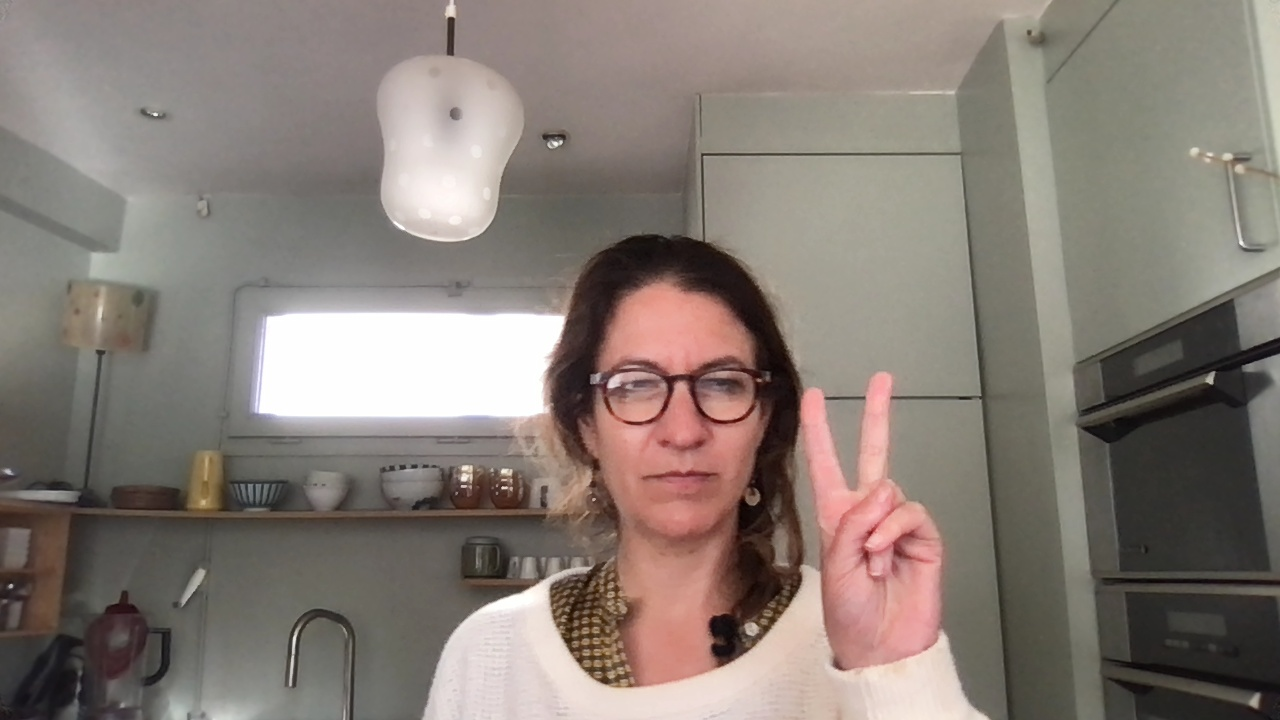peace: (800, 370, 945, 649)
